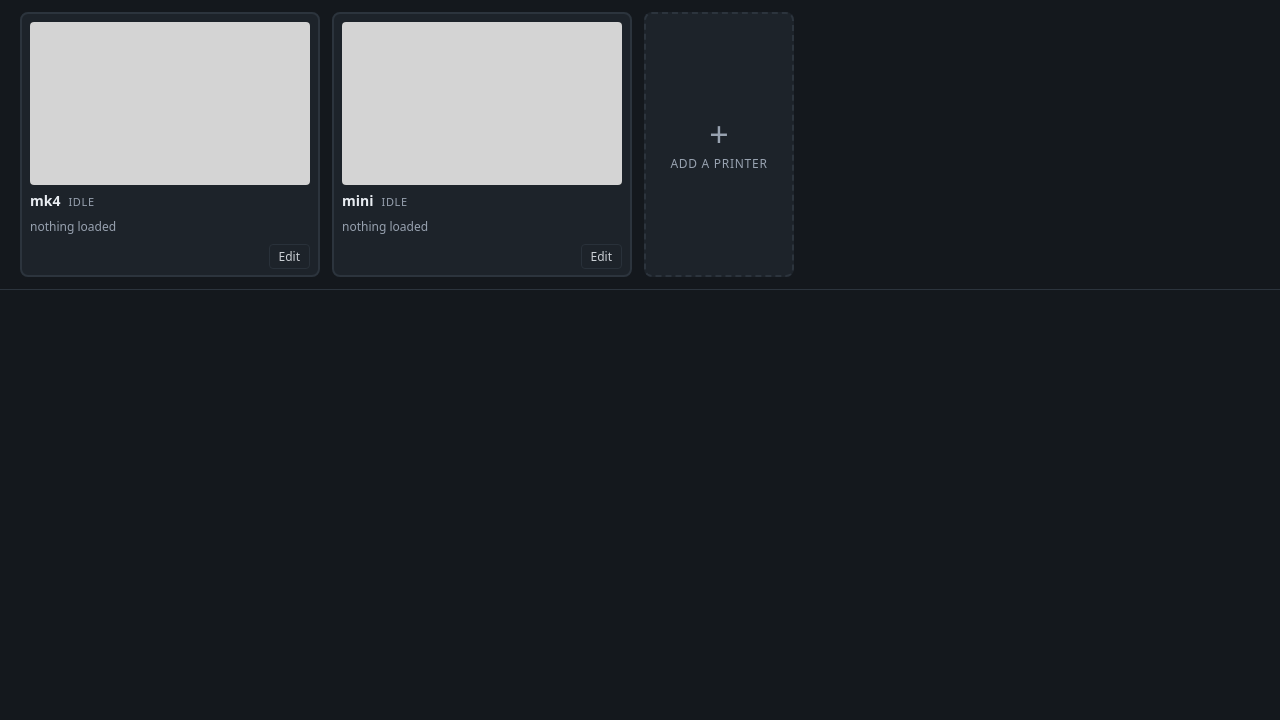
the gallery of printers › the way to change one › opens a dialog about only the printer asked about
This screenshot has width=1280, height=720.
Click the button with aria-label "Edit mini": click(601, 256) [580, 244, 622, 269]
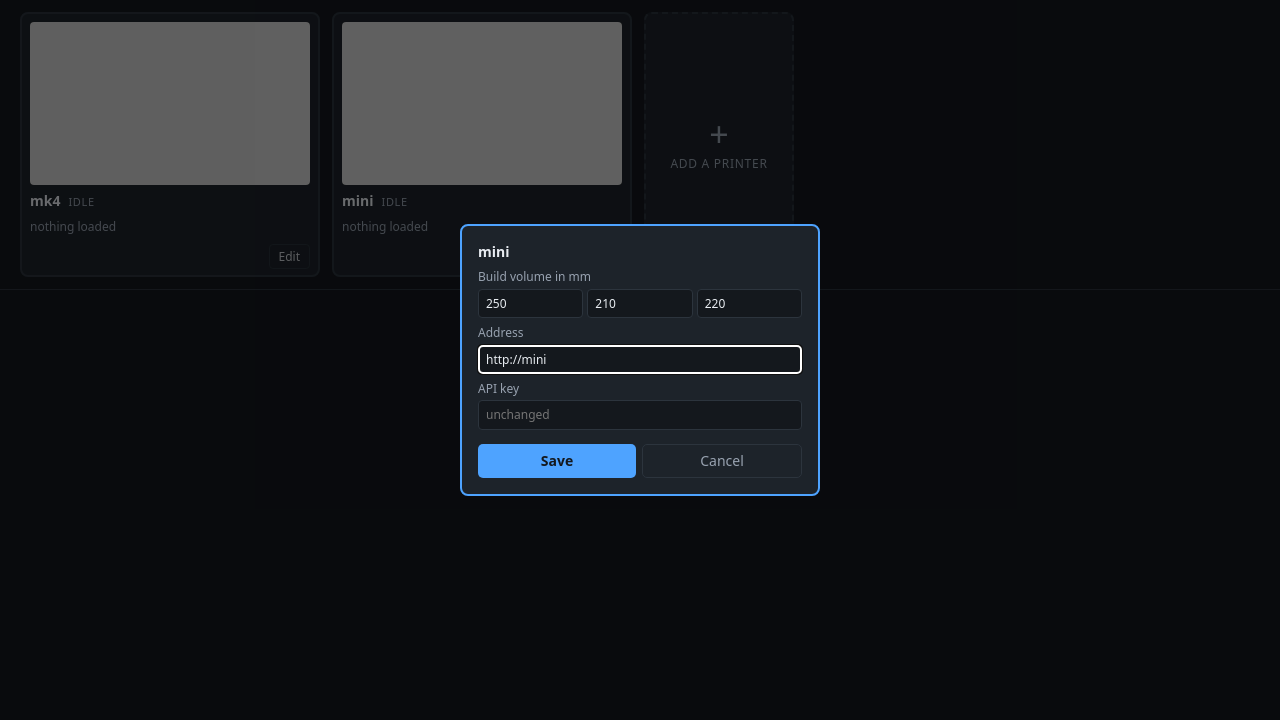
Expected: the dialog named "Edit mini" is shown, [460, 224, 820, 496]
Expected: the field labelled "Address" holds "http://mini", [478, 344, 802, 374]
